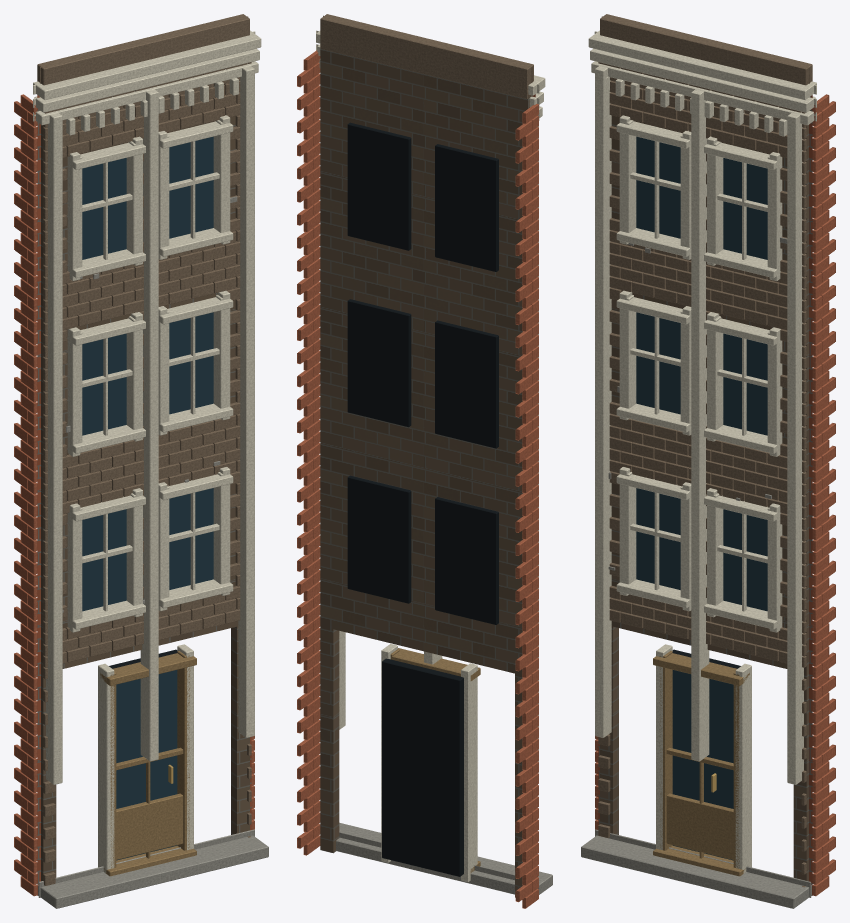
The model's file is OFFC14_lod0.glb.
3 views of the same model, side by side, from view 1: azimuth 30°, elevation 25°; view 2: azimuth 150°, elevation 25°; view 3: azimuth 330°, elevation 25° (orthographic).
Parts seen in each view (by area): view 1: OFFC14_FRONT_LOD0; view 2: OFFC14_FRONT_LOD0; view 3: OFFC14_FRONT_LOD0.
Part boxes in pixels (box(x1,y1,x2,y2)): OFFC14_FRONT_LOD0: box(14, 14, 268, 908); OFFC14_FRONT_LOD0: box(297, 14, 552, 908); OFFC14_FRONT_LOD0: box(581, 14, 835, 908).
Bounding box in the file's own units: 3.44 × 12.26 × 1.02.
15 materials, 12 textured.
